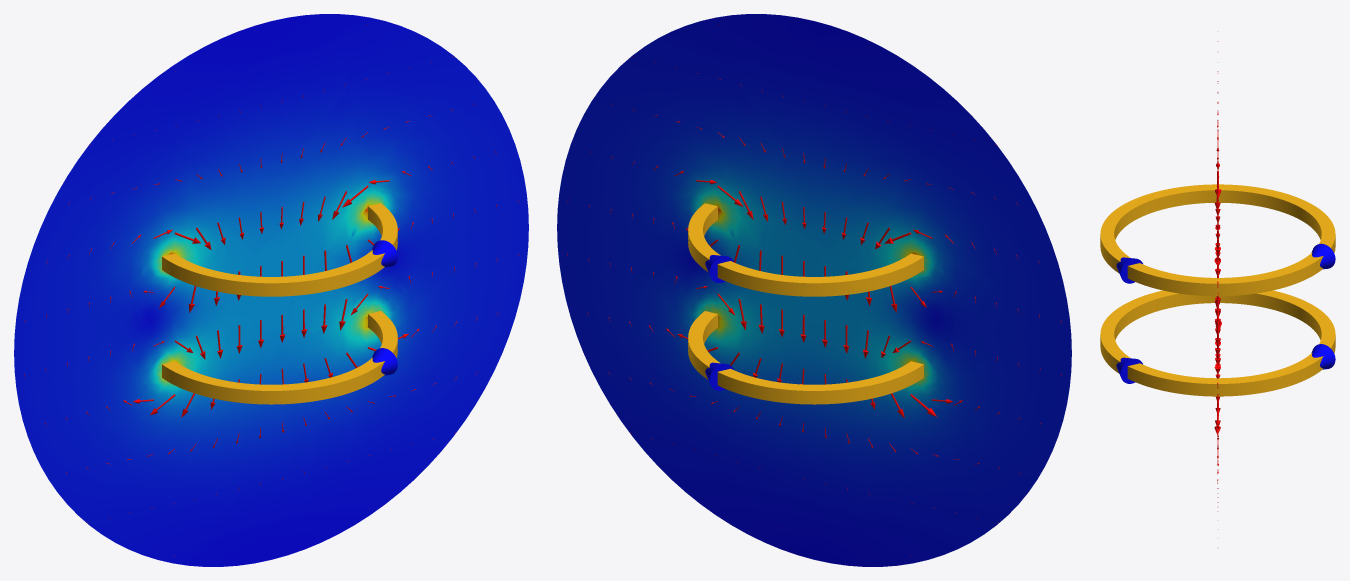
The model's file is helm1.glb.
3 views of the same model, side by side, from view 1: azimuth 30°, elevation 25°; view 2: azimuth 150°, elevation 25°; view 3: azimuth 270°, elevation 25° (orthographic). The views are drawn at different scales.
Bounding box in the file's own units: 2 × 2 × 0.85.
Materials: 5 (5 with a texture image).
